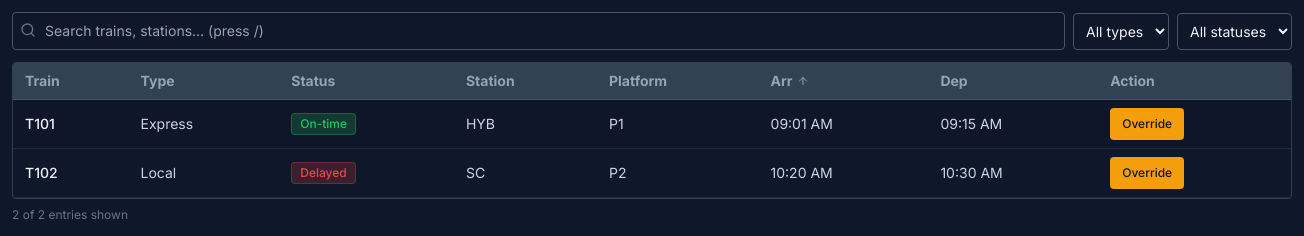
Test: ScheduleTable › renders schedule rows and filters by search
Expected: the text "T101" is shown, [13,100,128,148]
Expected: the text "T102" is shown, [13,148,128,198]
Type "T101" into the search field named "Search schedule" at [538, 31], box [12,12,1065,50]
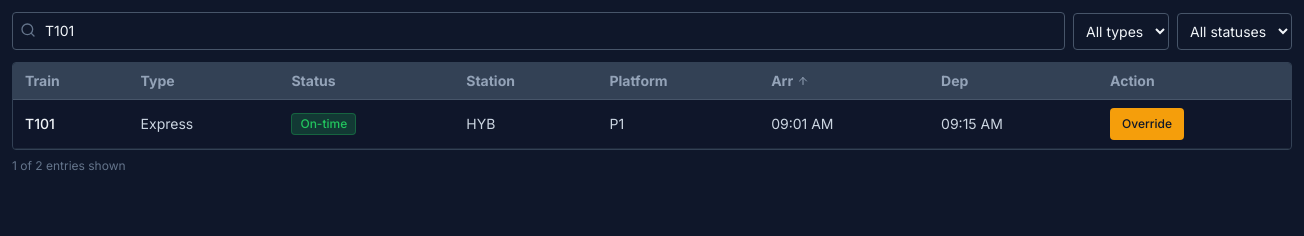
Expected: the text "T101" is shown, [13,100,129,148]
Now the text "T102" is gone
